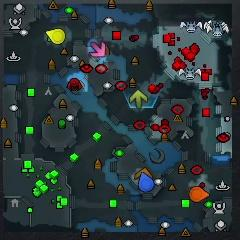p1: (138, 172, 154, 193)
p4: (45, 28, 66, 44)
p5: (190, 187, 210, 202)
x1: (90, 42, 106, 58)
x2: (129, 90, 148, 110)
x5: (135, 167, 152, 178)
